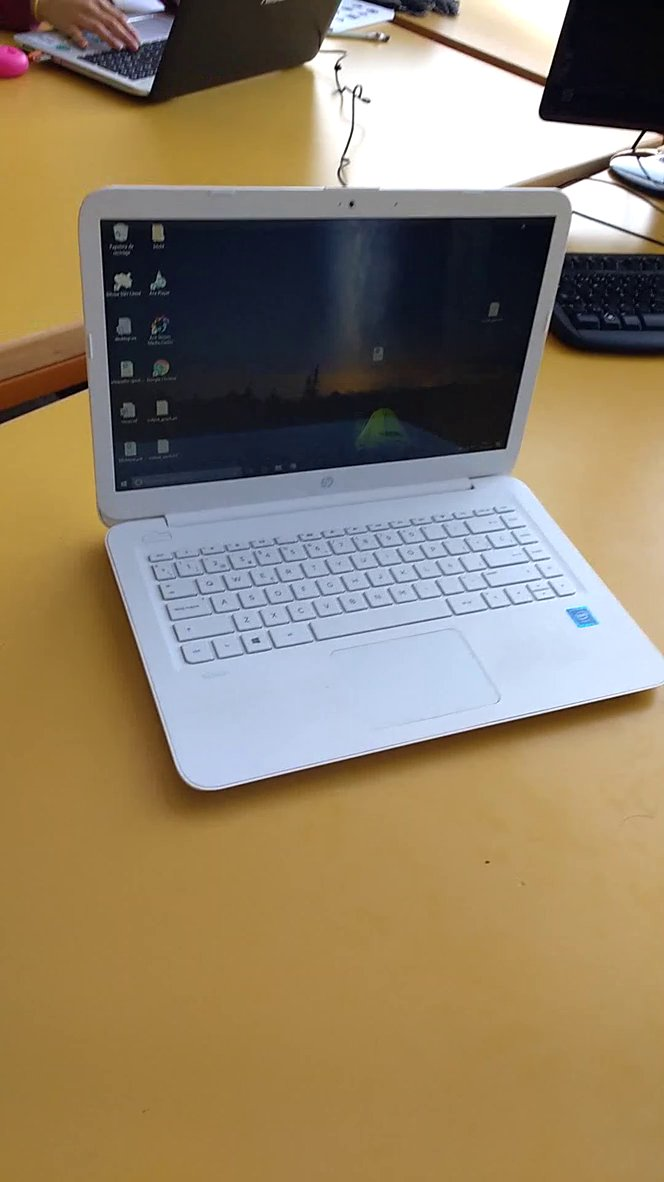laptop: (62, 173, 664, 821), (10, 1, 362, 108)
